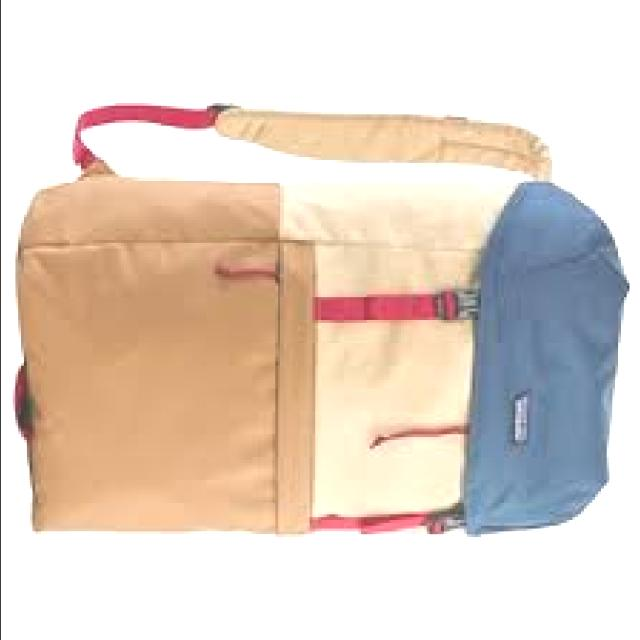backpack: (16, 101, 633, 538)
